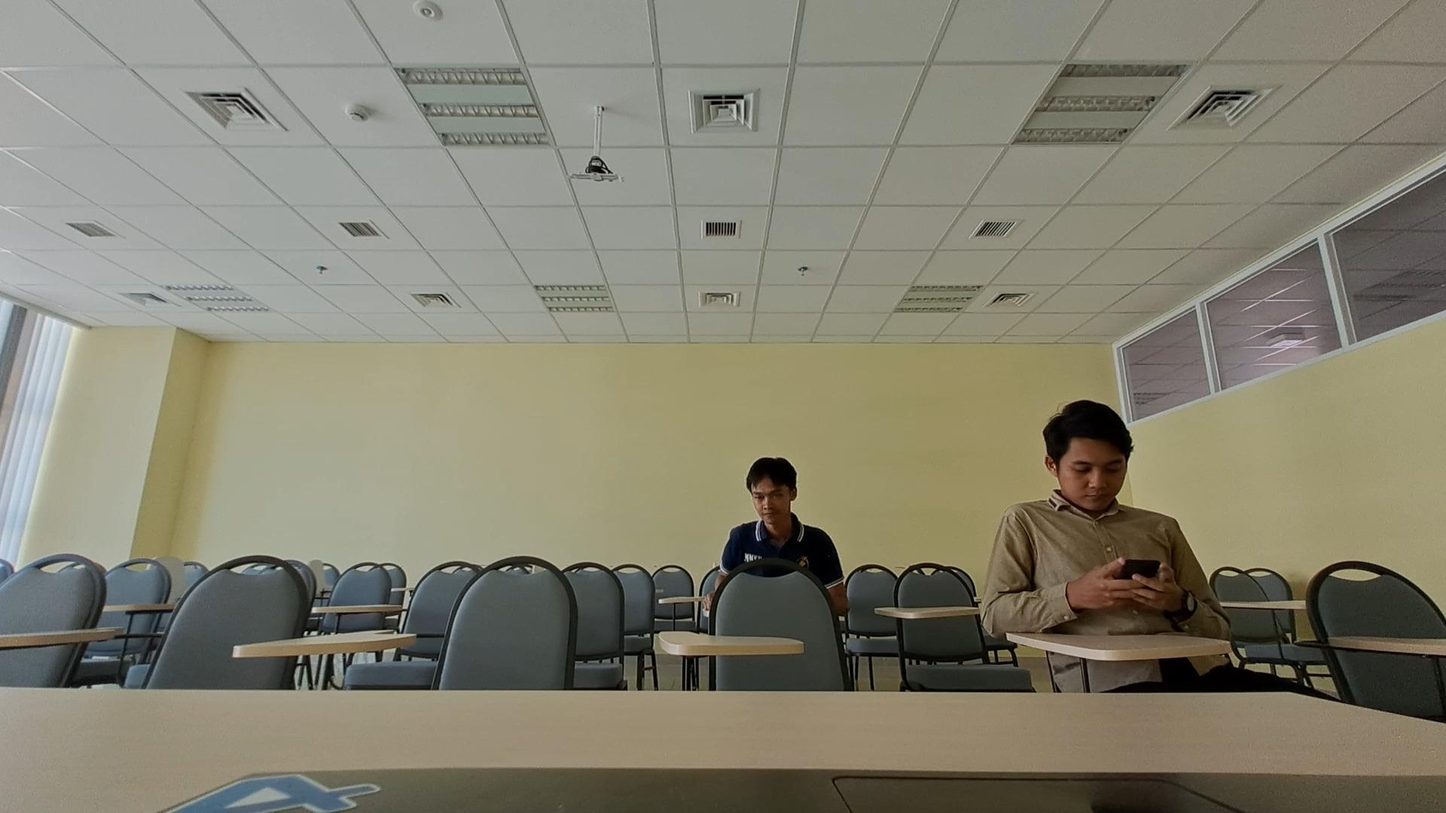phone: (981, 399, 1213, 642)
study: (700, 446, 845, 634)
